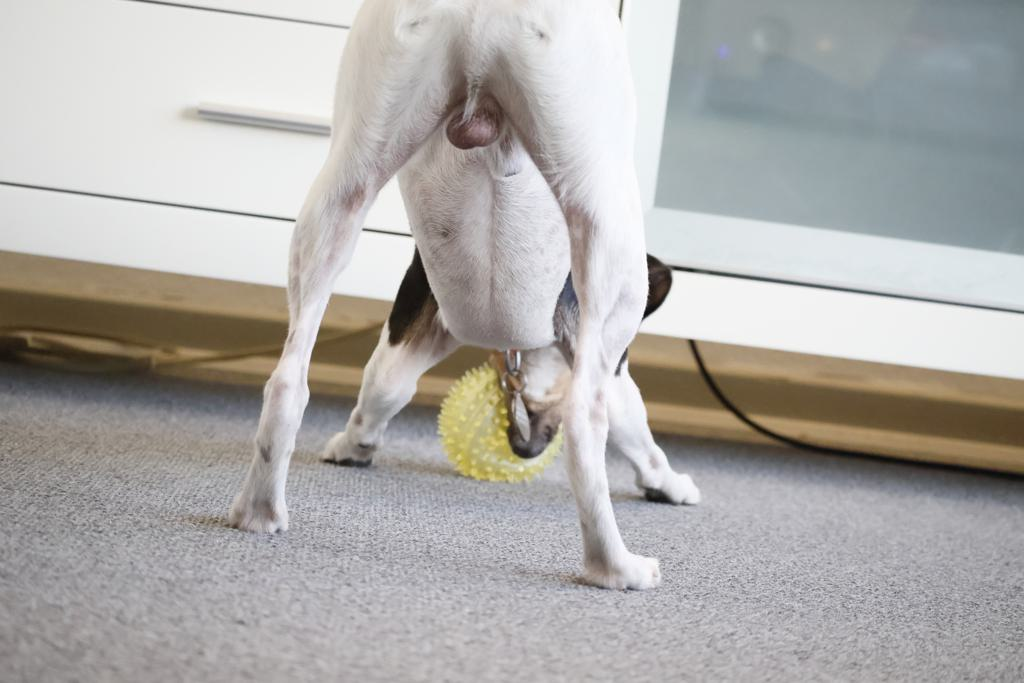Dog: (209, 0, 711, 598)
